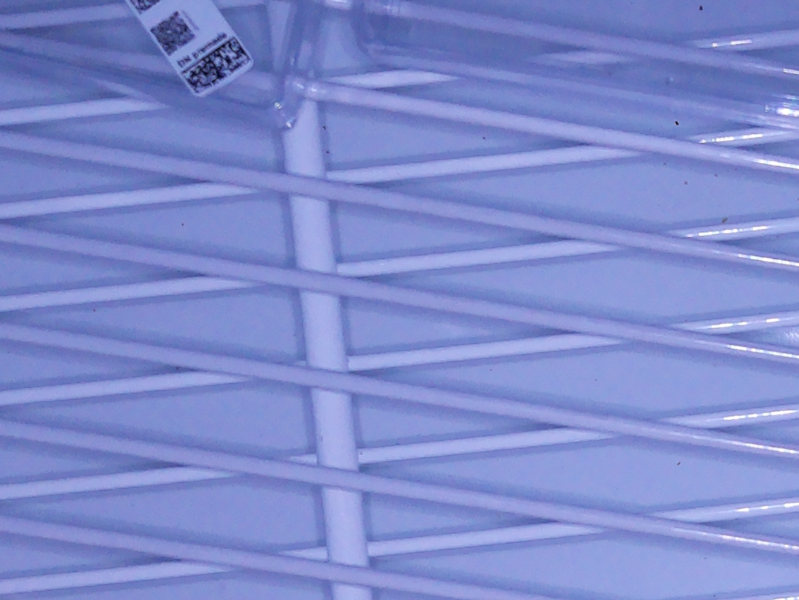plate: (350, 1, 799, 129), (1, 1, 326, 134)
